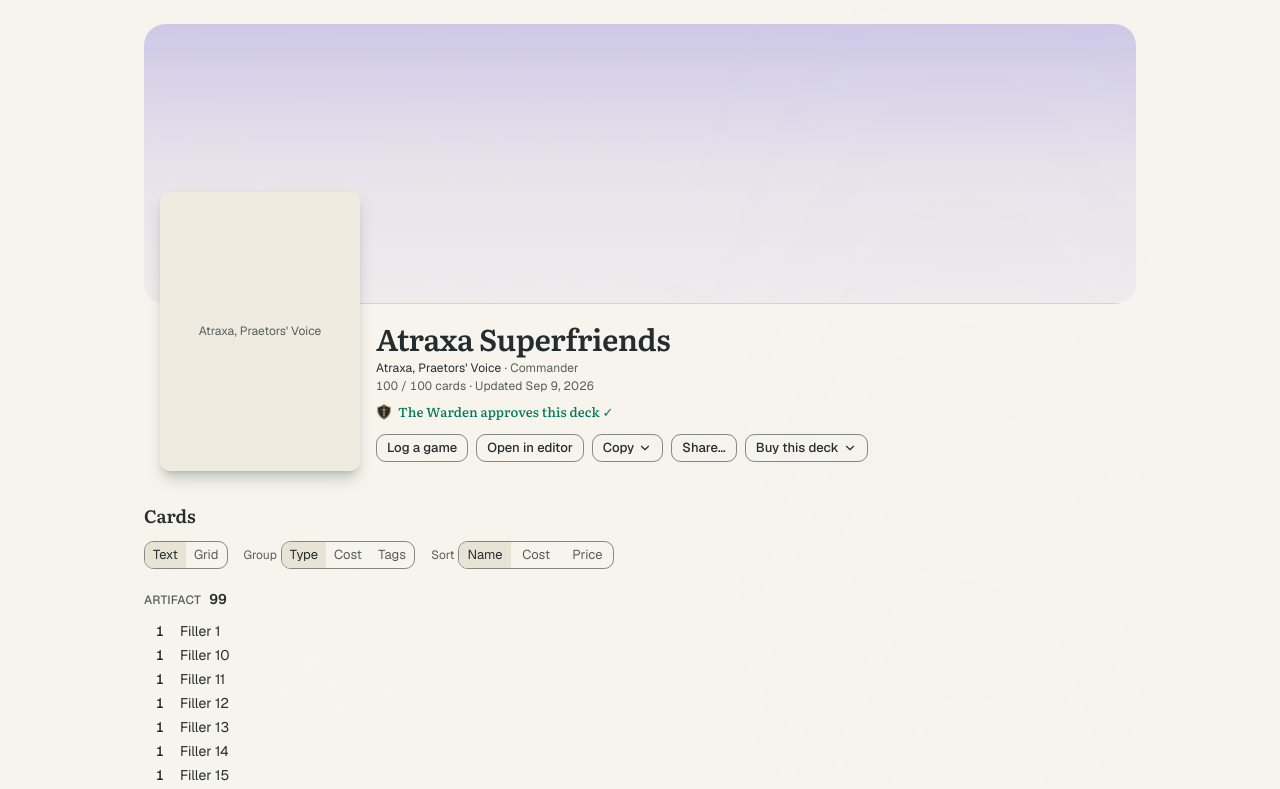
DeckShareView — at the table (Y5, WAVE4 D6) › no read to tell (no facts, One Piece, a draft): Copy holds only the decklist
The image size is (1280, 789).
Press the mouse on the button "Copy" at (628, 448), box [592,434,663,462]
Press the mouse on the button "Copy" at (628, 448), box [592,434,663,462]
Click the button "Copy".
click(628, 448)  # box [592,434,663,462]
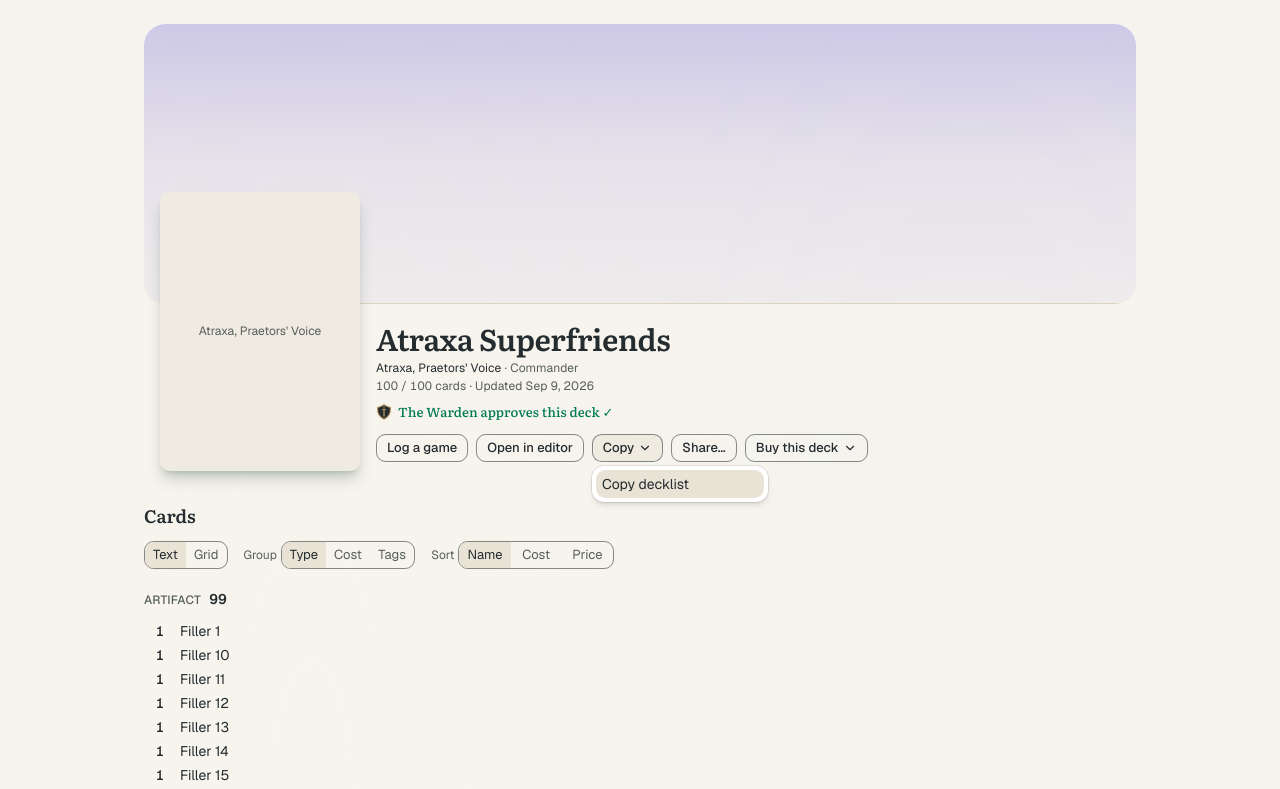
Expected: the menu items read "Copy decklist", in this order, [596,470,764,498]
